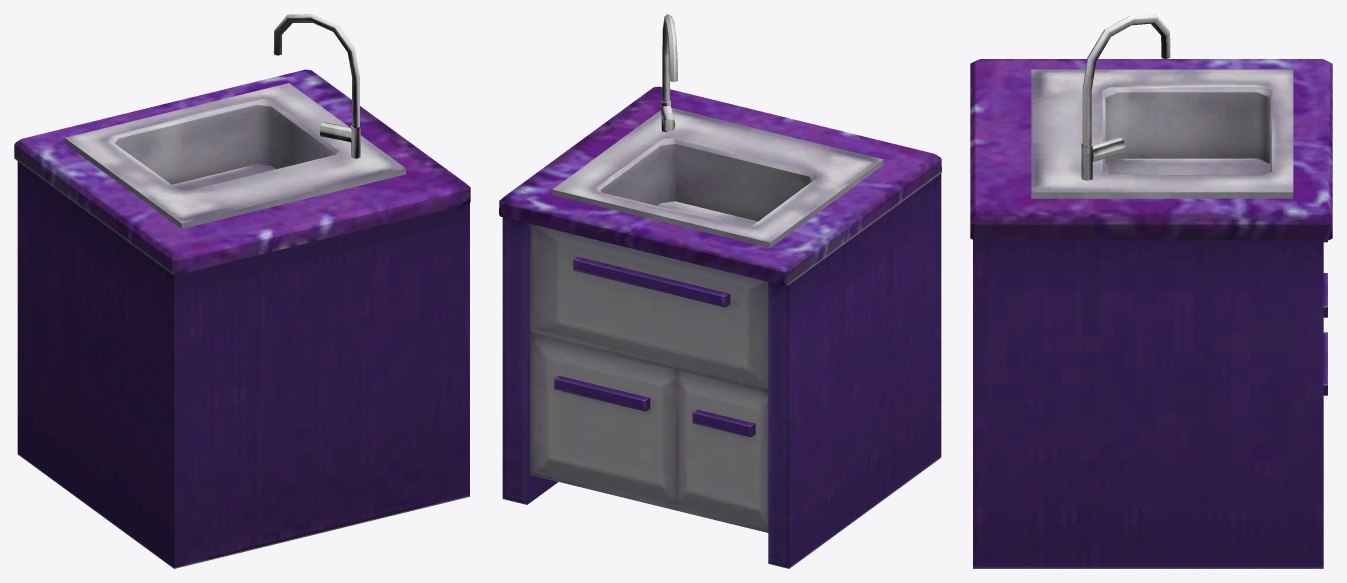
The model's file is furni_0200521_03.FBX.
The picture shows the model from 3 angles, left to right: view 1: azimuth 30°, elevation 25°; view 2: azimuth 150°, elevation 25°; view 3: azimuth 270°, elevation 25°; orthographic projection. The views are drawn at different scales.
Visible parts, largest first — view 1: furni_0200521_03; view 2: furni_0200521_03; view 3: furni_0200521_03.
Boxes of the visible parts, x1,y1,x2,y2 form: furni_0200521_03: [14, 14, 470, 568]; furni_0200521_03: [499, 14, 941, 568]; furni_0200521_03: [970, 14, 1332, 568].
Bounding box in the file's own units: 79.8 × 116 × 74.96.
1 material, 1 textured.
